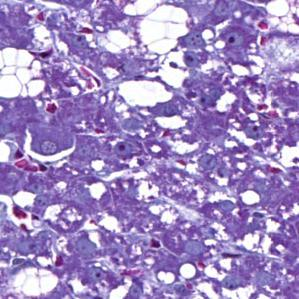ballooning: (131, 3, 192, 59), (4, 45, 47, 103), (10, 263, 60, 294)
